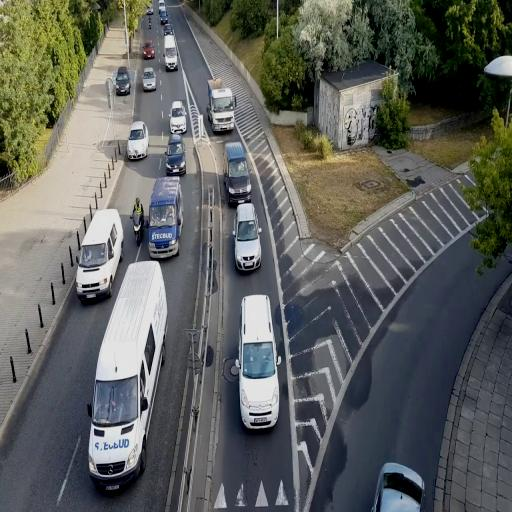vehicle: (87, 258, 168, 492), (239, 293, 280, 430), (75, 208, 124, 302), (76, 209, 124, 303), (147, 176, 183, 260), (147, 176, 183, 258), (371, 462, 424, 512), (234, 204, 262, 274), (224, 142, 252, 206), (206, 80, 235, 136), (126, 120, 150, 161), (164, 135, 186, 176), (170, 99, 188, 134), (114, 68, 131, 96), (142, 67, 157, 91)
